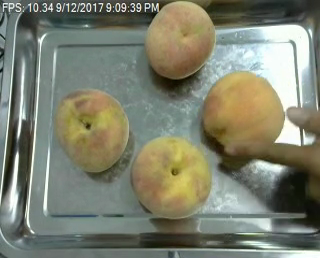Peach: (201, 71, 284, 154), (130, 135, 211, 218), (54, 88, 130, 173), (145, 0, 216, 80)
